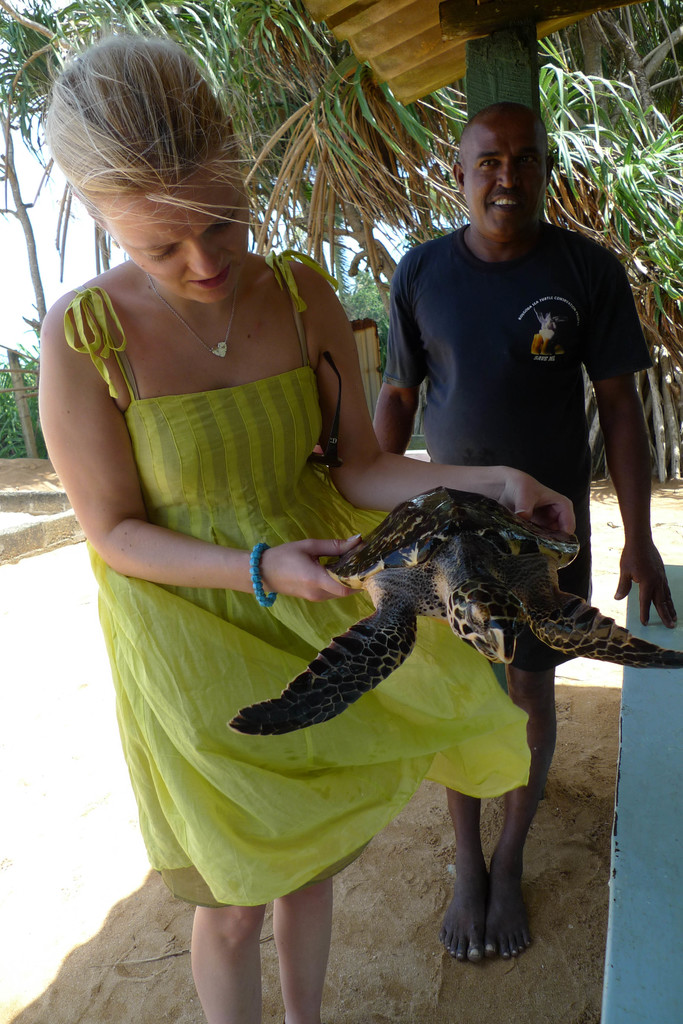Sea turtles: (230, 483, 682, 738)
